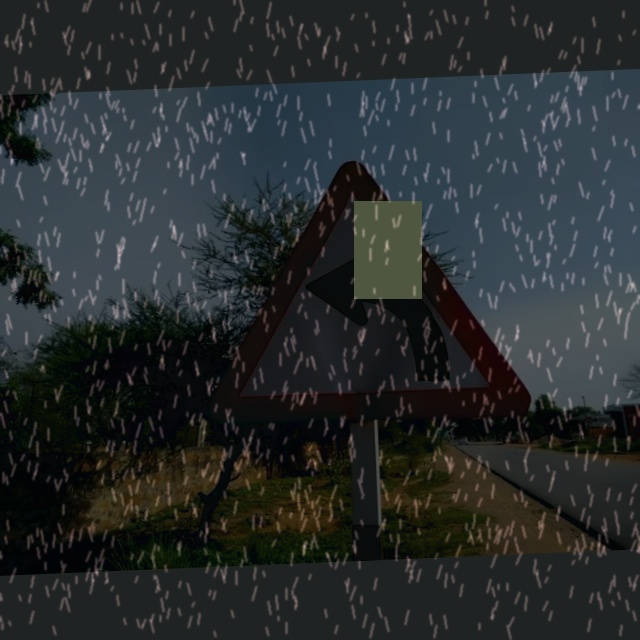Left_Hand_Curve: (220, 155, 530, 429)
